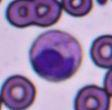M: (29, 30, 83, 81)
